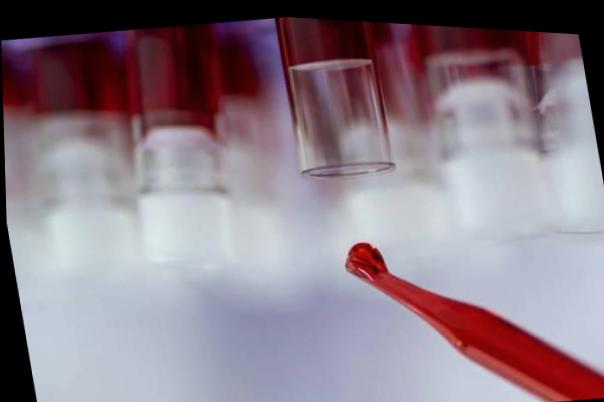Fire: (125, 21, 218, 145), (30, 41, 126, 112), (279, 13, 371, 65), (419, 19, 523, 57), (370, 17, 419, 95), (524, 24, 583, 59), (217, 42, 257, 92), (344, 238, 386, 281), (2, 66, 24, 106)
